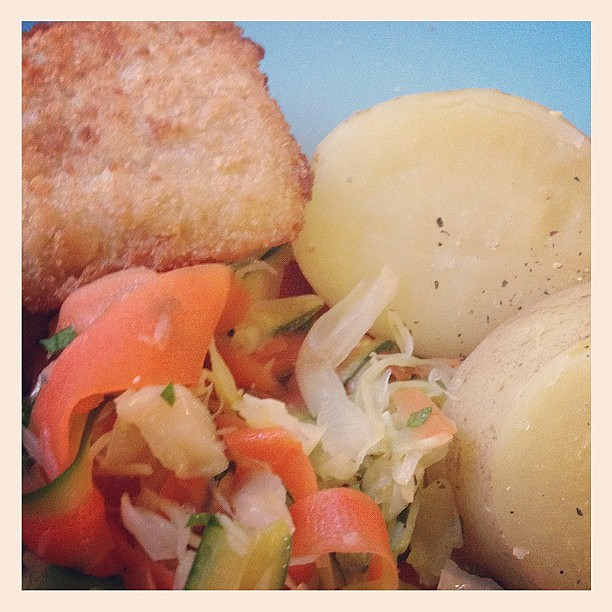boiled potatoes: (299, 79, 601, 317), (441, 298, 597, 586)
